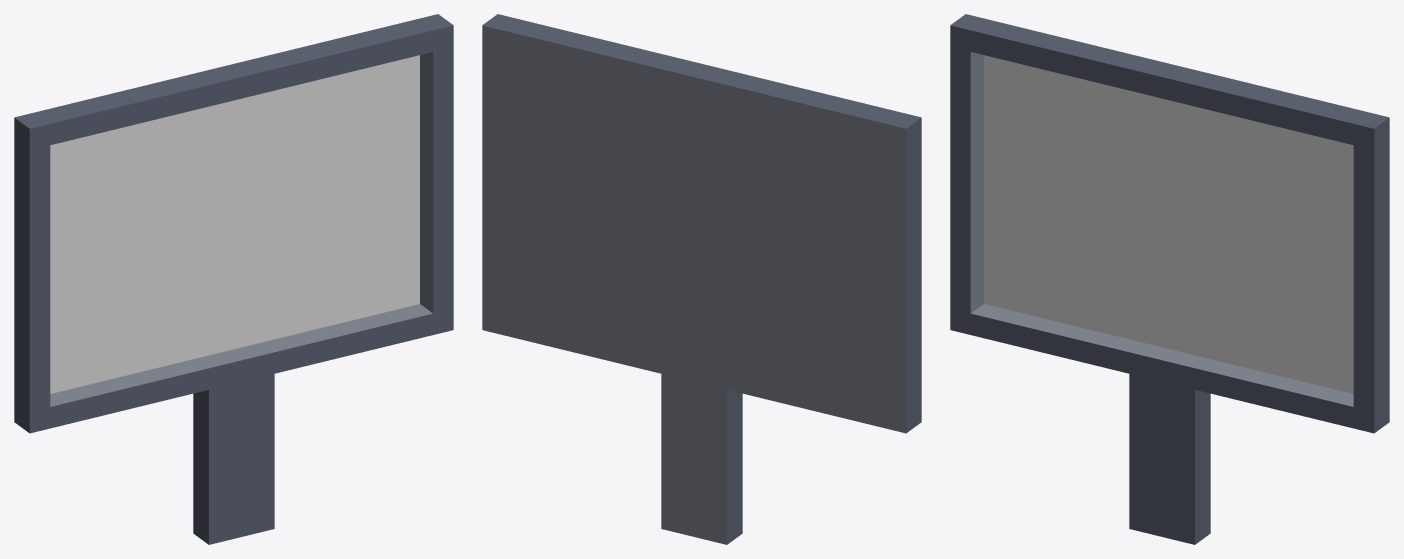
Rendered from Table.fbx.
The picture shows the model from 3 angles, left to right: view 1: azimuth 30°, elevation 25°; view 2: azimuth 150°, elevation 25°; view 3: azimuth 330°, elevation 25°; orthographic projection.
Parts seen in each view (by area): view 1: Table; view 2: Table; view 3: Table.
Boxes of the visible parts, left/top/right/bottom form: Table: left=14, top=14, right=453, bottom=544; Table: left=482, top=14, right=921, bottom=544; Table: left=950, top=14, right=1389, bottom=544.
Bounding box in the file's own units: 86.96 × 90.12 × 5.53.
